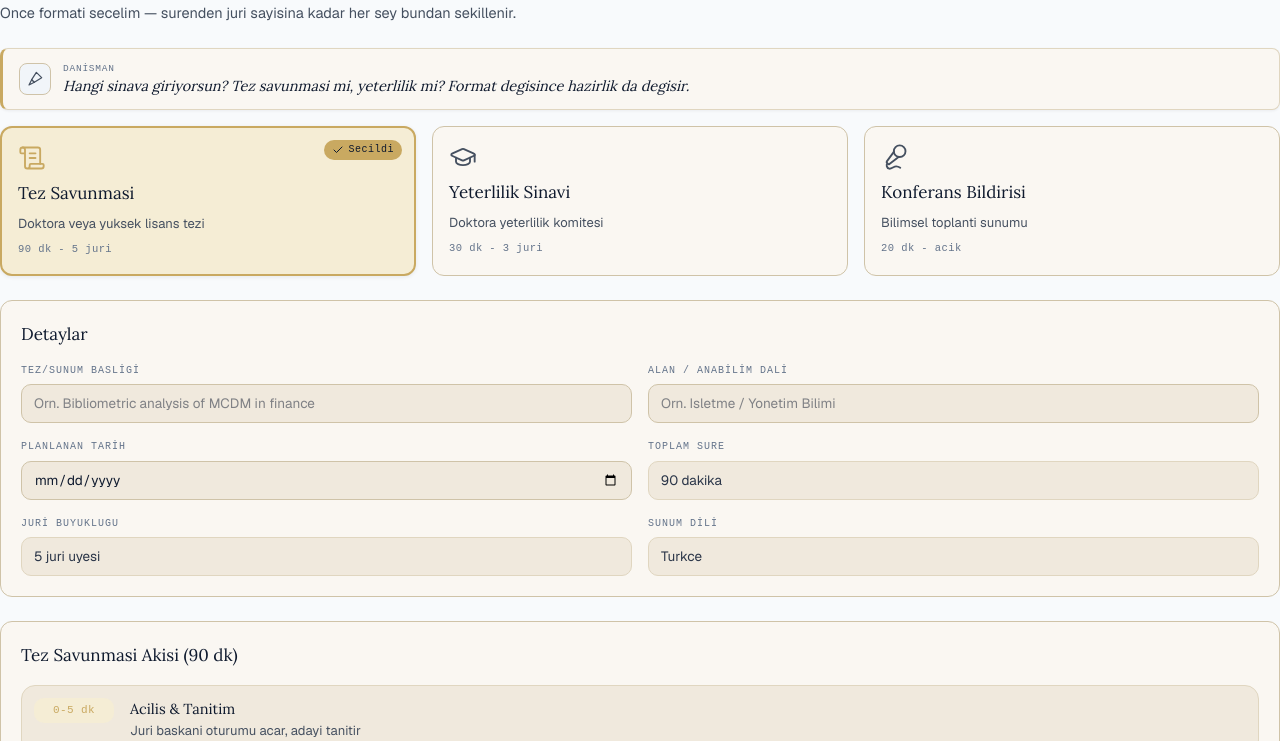
Test: DefenseFormatPage — endpoint binding › hata durumunda banner gosterilir
In the field with placeholder "Orn. Bibliometric analysis of MCDM in finance": (326, 404) [21,384,632,423], type "Tez X"
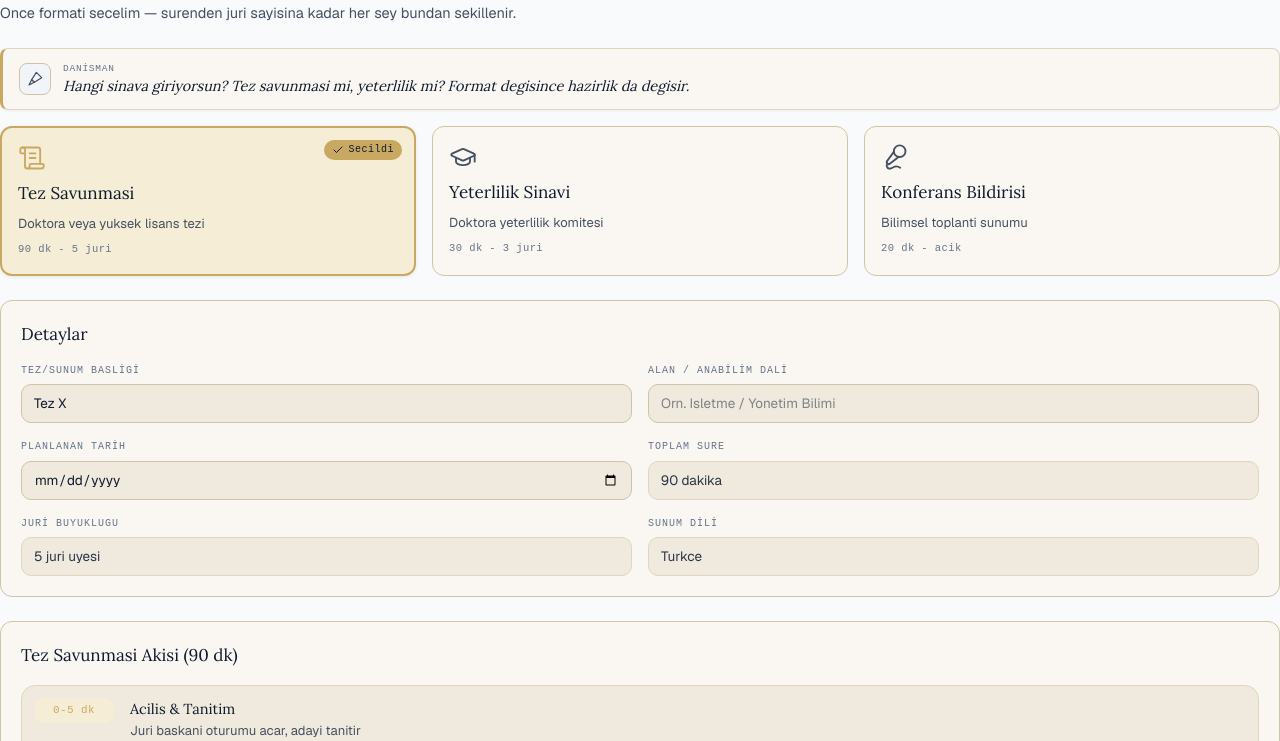
In the field with placeholder "Orn. Isletme / Yonetim Bilimi": (954, 404) [648,384,1259,423], type "Yöneylem"
(page scrolled)
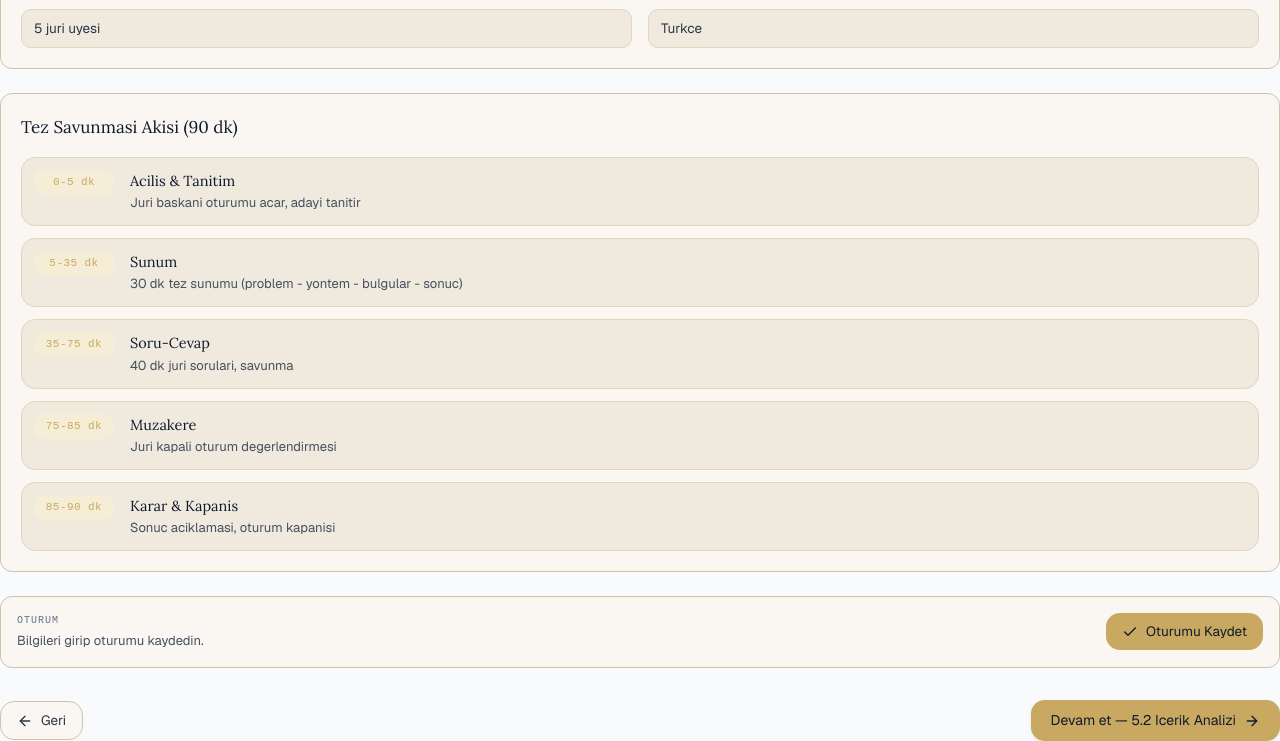
Click the button "Oturumu Kaydet": (1185, 632) [1106,614,1263,650]
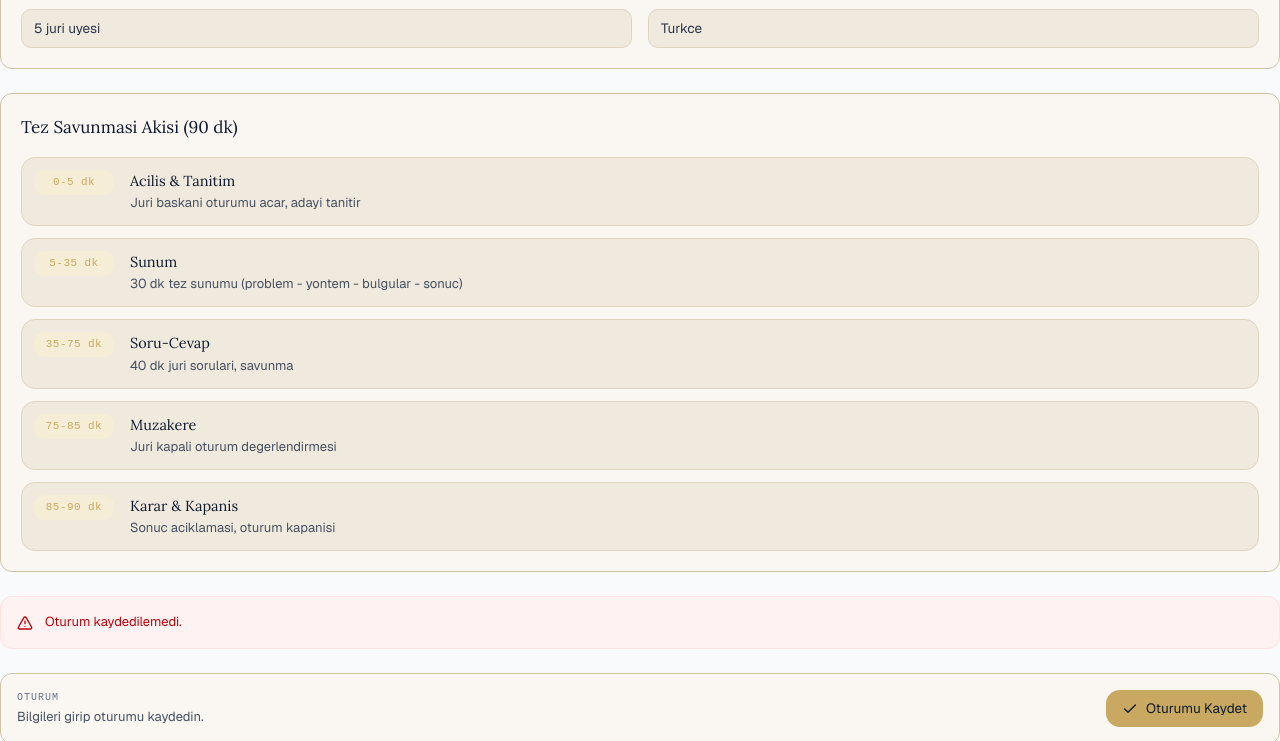
Check: the text "Oturum kaydedilemedi." is shown, box [45,613,182,632]
